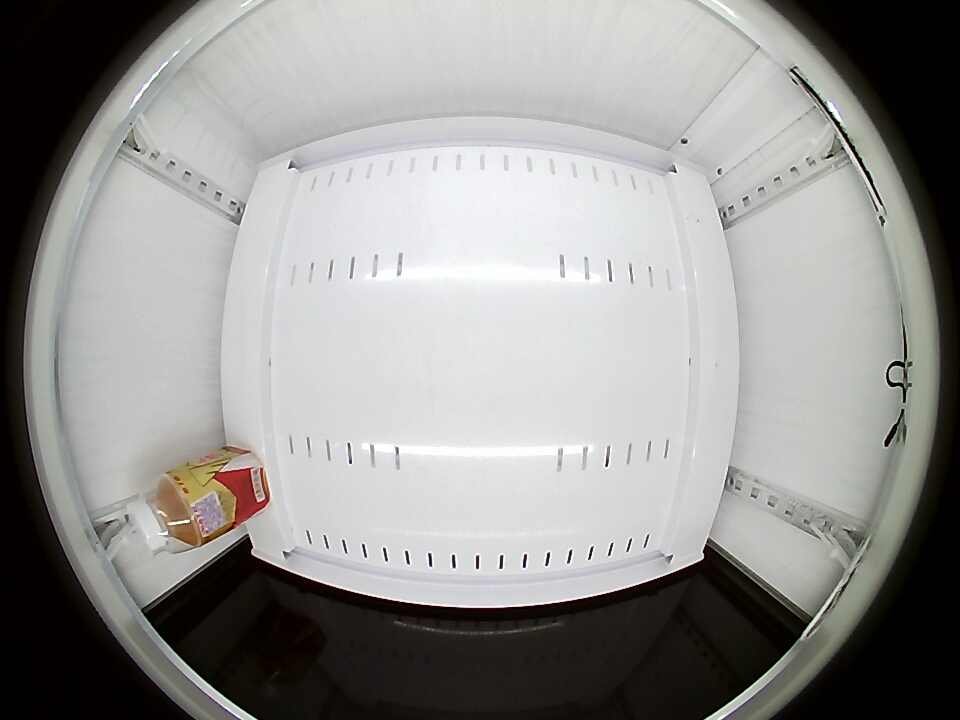dongpeng-b: (131, 471, 207, 553)
